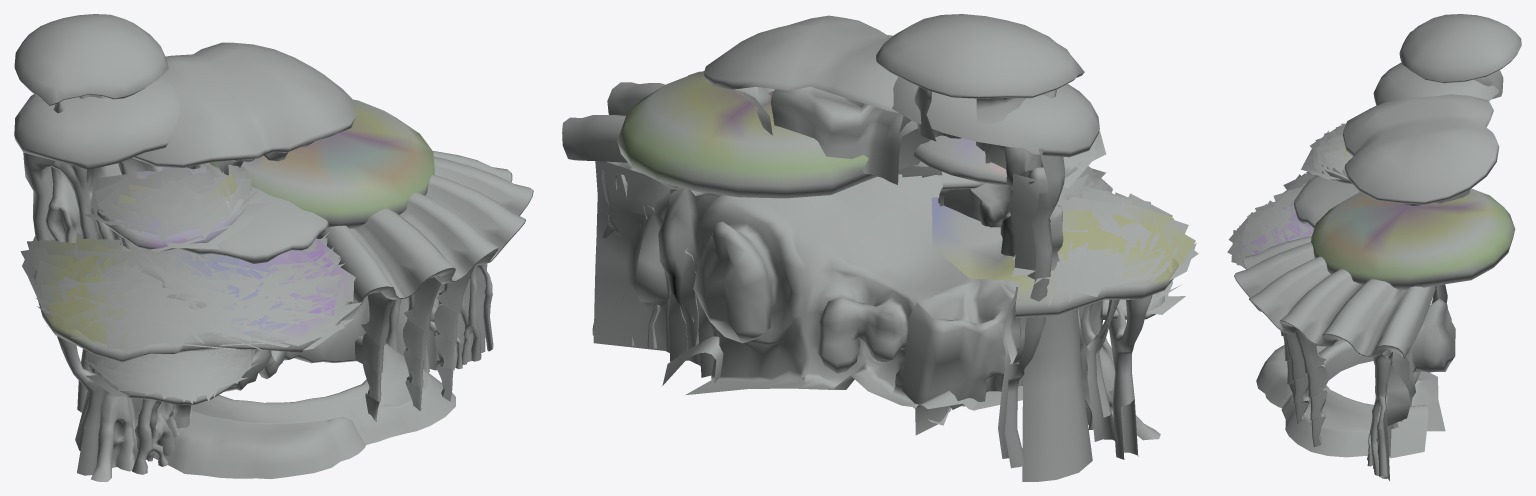
3 renders of one model, left to right at view 1: azimuth 30°, elevation 25°; view 2: azimuth 150°, elevation 25°; view 3: azimuth 270°, elevation 25°, orthographic. The views are drawn at different scales.
Visible parts, largest first — view 1: G:\FFXIV-MapTools\exports\s1f4\bg\ffxiv\sea_s1\fld\s1f4\bgpa (×11); view 2: G:\FFXIV-MapTools\exports\s1f4\bg\ffxiv\sea_s1\fld\s1f4\bgpa (×9); view 3: G:\FFXIV-MapTools\exports\s1f4\bg\ffxiv\sea_s1\fld\s1f4\bgpa (×10).
Boxes of the visible parts, x1,y1,x2,y2 form: G:\FFXIV-MapTools\exports\s1f4\bg\ffxiv\sea_s1\fld\s1f4\bgpa (×11): (14, 14, 533, 481); G:\FFXIV-MapTools\exports\s1f4\bg\ffxiv\sea_s1\fld\s1f4\bgpa (×9): (562, 14, 1198, 481); G:\FFXIV-MapTools\exports\s1f4\bg\ffxiv\sea_s1\fld\s1f4\bgpa (×10): (1227, 14, 1521, 481).
Bounding box in the file's own units: 18.87 × 14.23 × 11.88.
